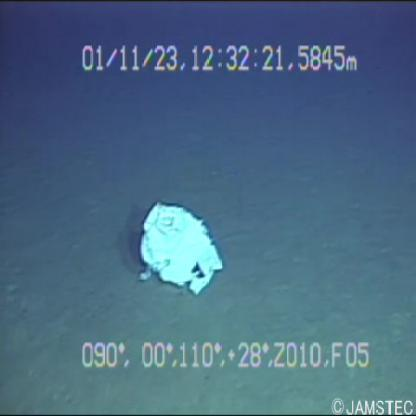Rác: (126, 186, 228, 297)
